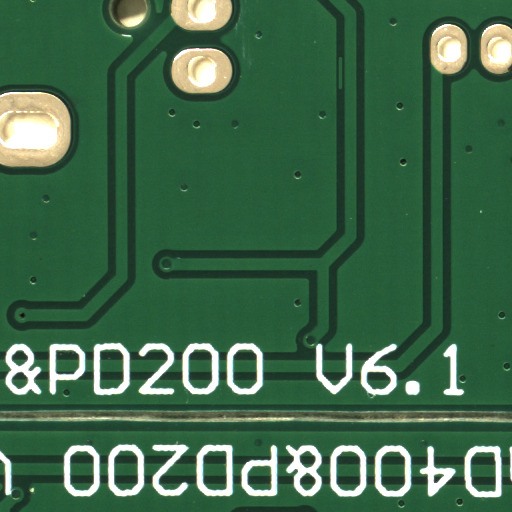Spurious_copper: (339, 72, 347, 105)
